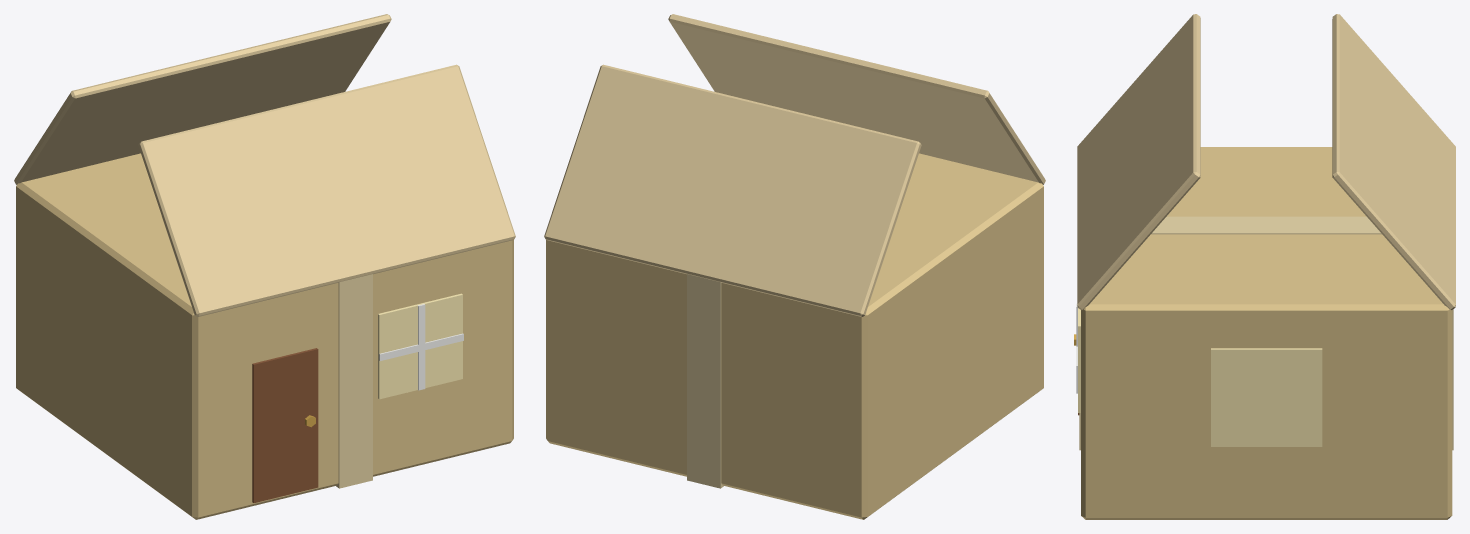
Rendered from rental_student.glb.
The picture shows the model from 3 angles, left to right: view 1: azimuth 30°, elevation 25°; view 2: azimuth 150°, elevation 25°; view 3: azimuth 270°, elevation 25°; orthographic projection. The views are drawn at different scales.
Parts seen in each view (by area): view 1: rental_student_Body; view 2: rental_student_Body; view 3: rental_student_Body.
Part boxes in pixels (bbox=[...]): rental_student_Body: bbox=[14, 14, 515, 519]; rental_student_Body: bbox=[544, 14, 1045, 519]; rental_student_Body: bbox=[1074, 14, 1455, 519].
Size of the model in its own units: 0.5 by 0.5 by 0.496.
